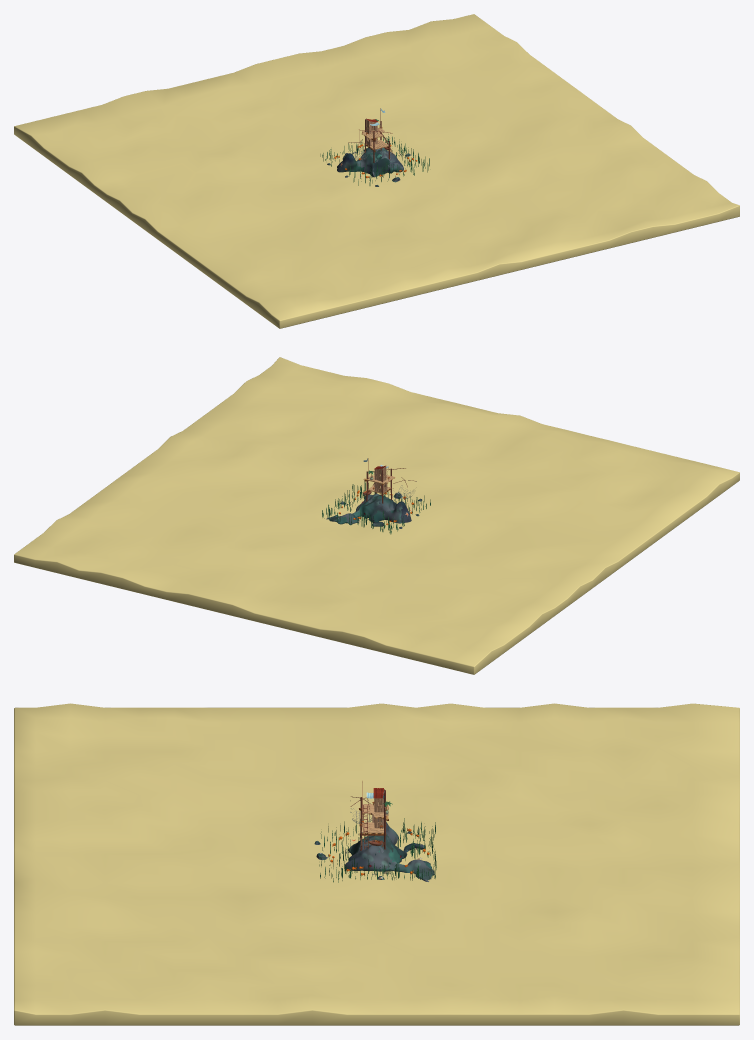
The picture shows the model from 3 angles, top to bottom: view 1: azimuth 30°, elevation 25°; view 2: azimuth 150°, elevation 25°; view 3: azimuth 270°, elevation 25°; orthographic projection. The views are drawn at different scales.
Visible parts, largest first — view 1: sabbia_0, roccia_2; view 2: sabbia_0, roccia_2; view 3: sabbia_0, roccia_2.
Boxes of the visible parts, bbox=[...] form: sabbia_0: bbox=[14, 14, 739, 328]; roccia_2: bbox=[337, 146, 403, 177]; sabbia_0: bbox=[14, 357, 739, 674]; roccia_2: bbox=[326, 493, 411, 526]; sabbia_0: bbox=[14, 703, 739, 1025]; roccia_2: bbox=[345, 820, 434, 881].
Size of the model in its own units: 116 by 15.48 by 116.
Materials: 24 (21 with a texture image).
